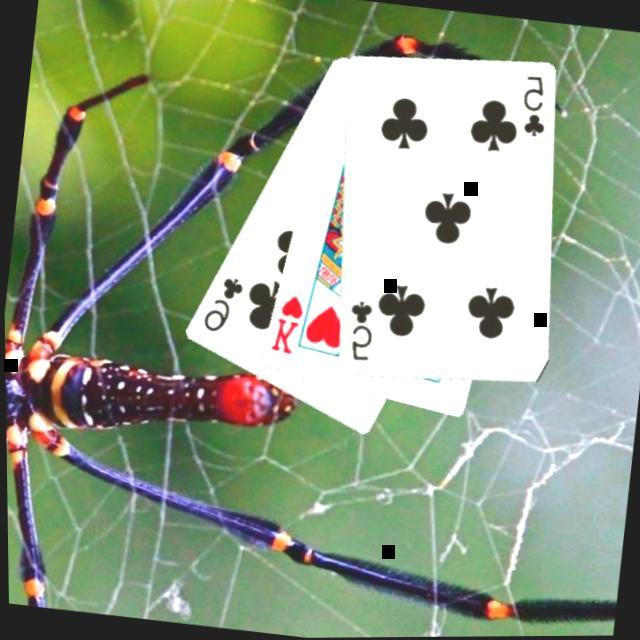5C: (514, 74, 554, 145), (340, 299, 379, 368)
9C: (197, 272, 247, 340)
KH: (264, 292, 308, 362)
